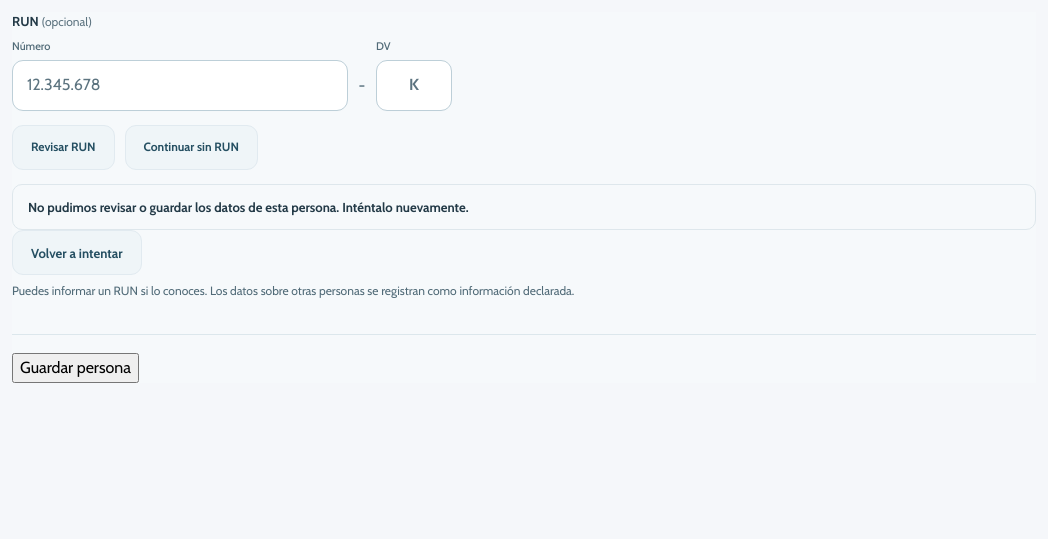
Test case: Identificación persistente de terceros › un fallo de revisión muestra error y conserva la tarjeta para reintentar
The width and height of the screenshot is (1048, 539).
Expected: the text "No pudimos revisar o guardar los datos de esta persona. Inténtalo nuevamente." is shown, [12,184,1036,230]
Click the button "Volver a intentar". click: (77, 253)
box: [12,230,142,275]
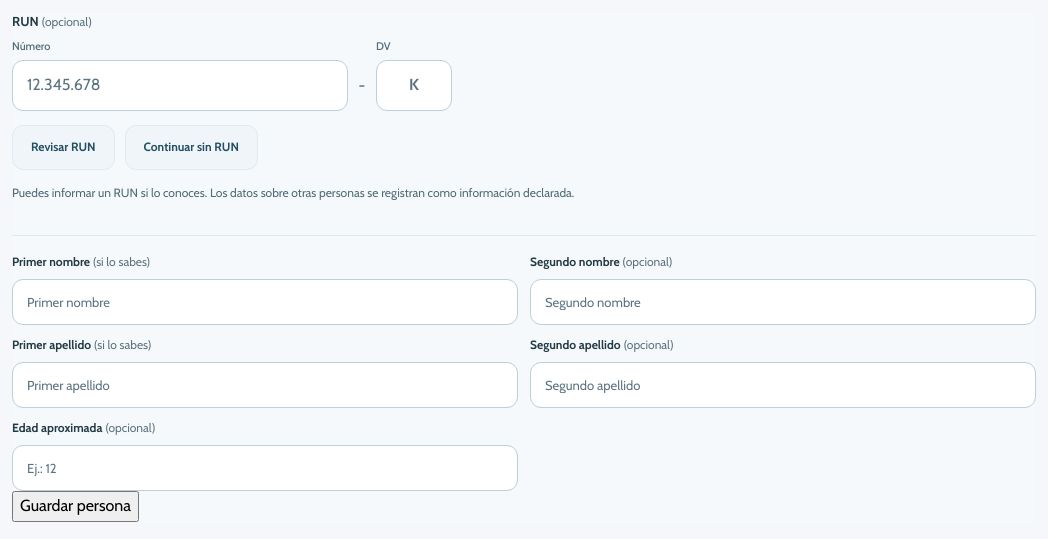
Expected: the field labelled "Primer nombre (si lo sabes)" is shown, [12,279,518,325]
